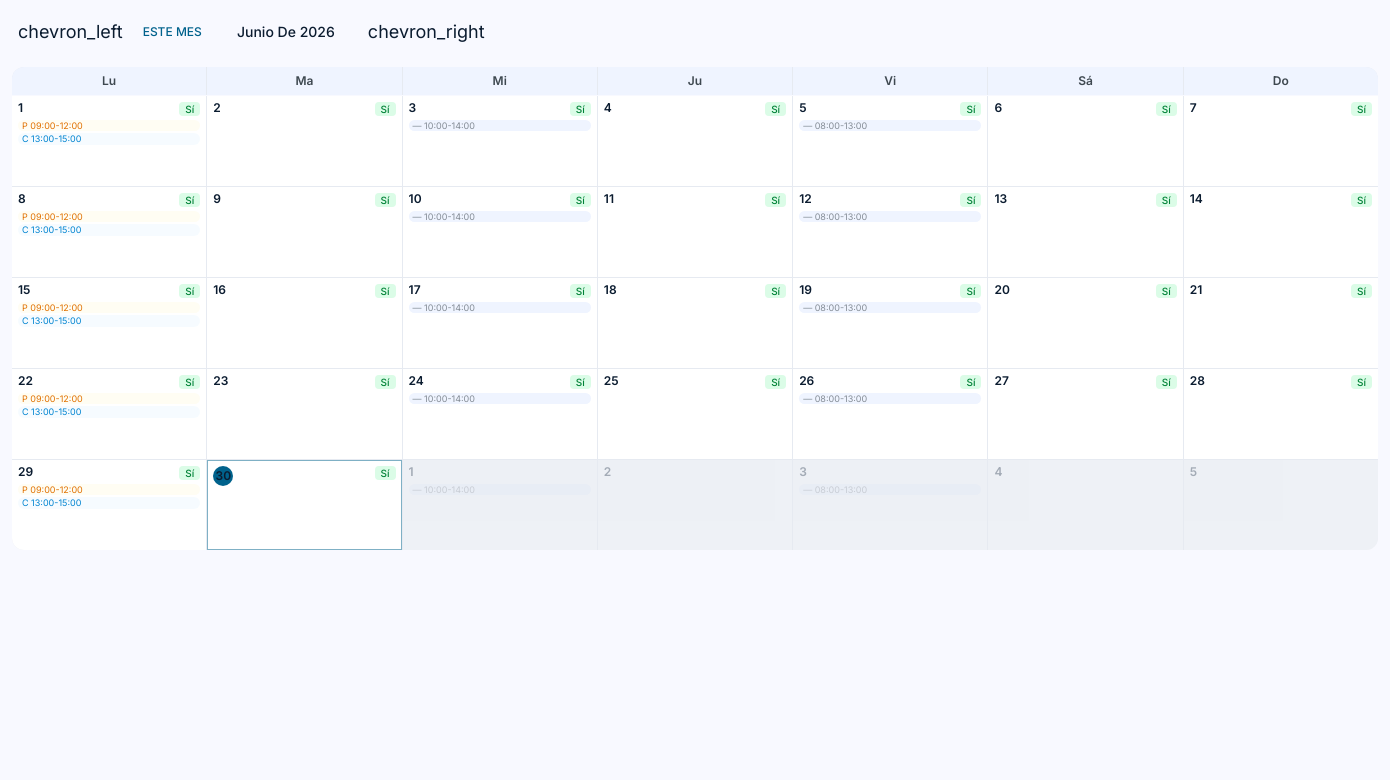
Test: CalendarGrid › shows batch badge and Guardar Todo after adding an unsaved block
Click the 1st text "1" at (21, 108), box [18, 102, 23, 114]
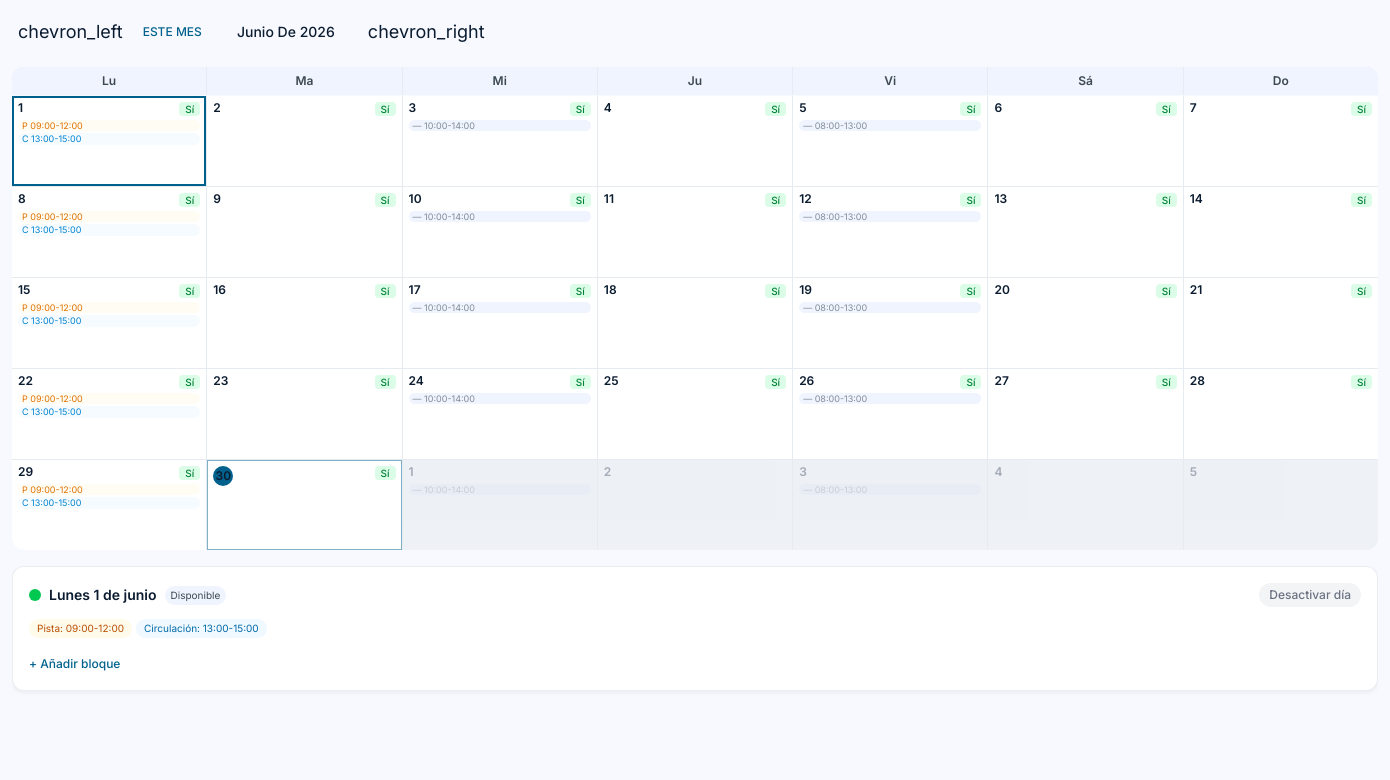
Expected: the text "Disponible" is shown, [164, 586, 226, 604]
// Add an unsaved block
Click the button "+ Añadir bloque" at (75, 664), box [29, 656, 120, 672]
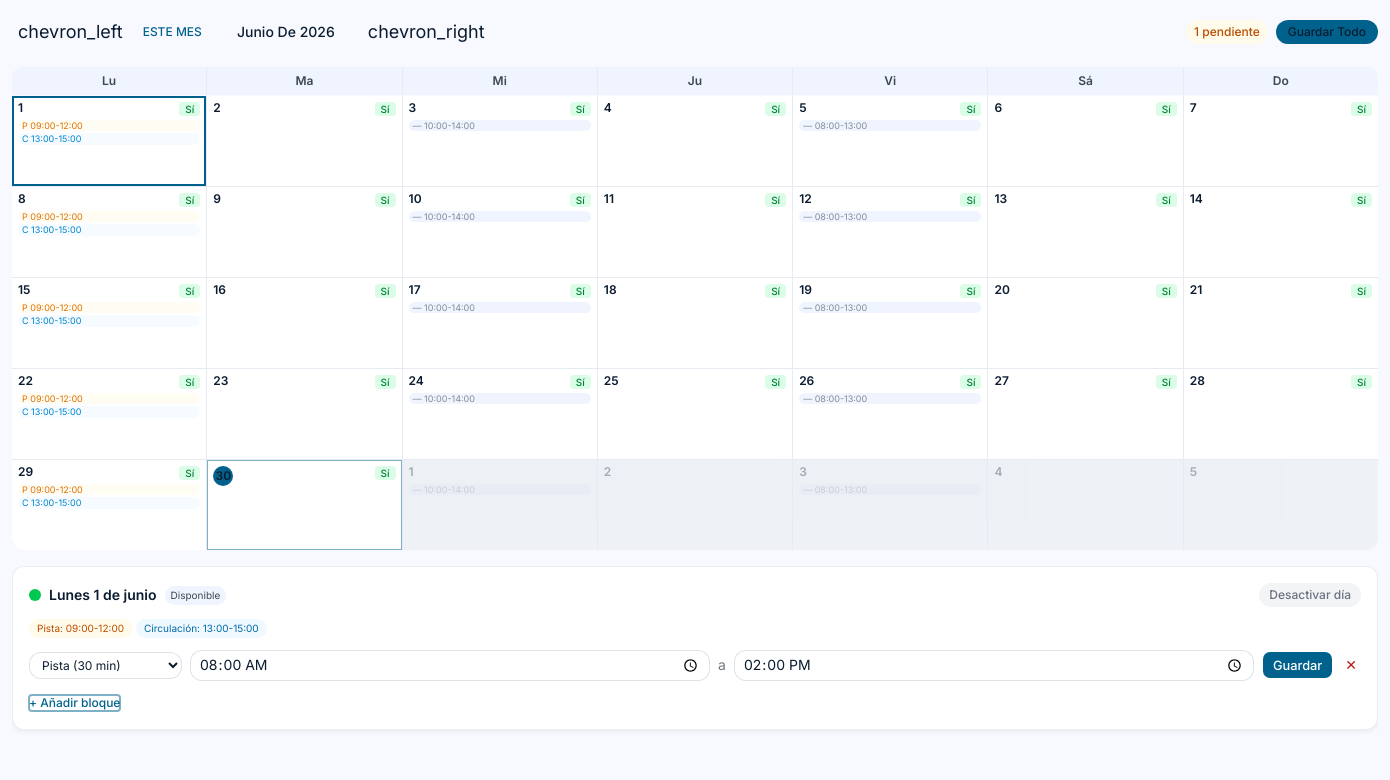
Expected: the text "1 pendiente" is shown, [1186, 20, 1268, 44]
Expected: the button "Guardar Todo" is shown, [1276, 20, 1378, 44]
